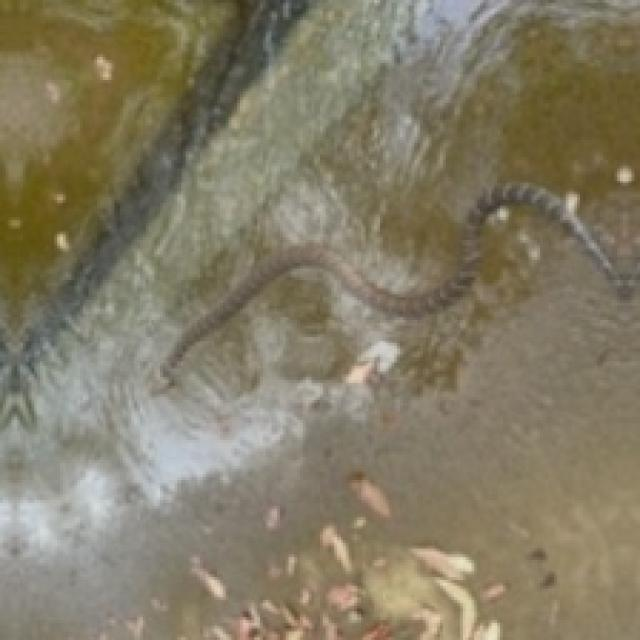king cobra: (151, 183, 623, 391)
